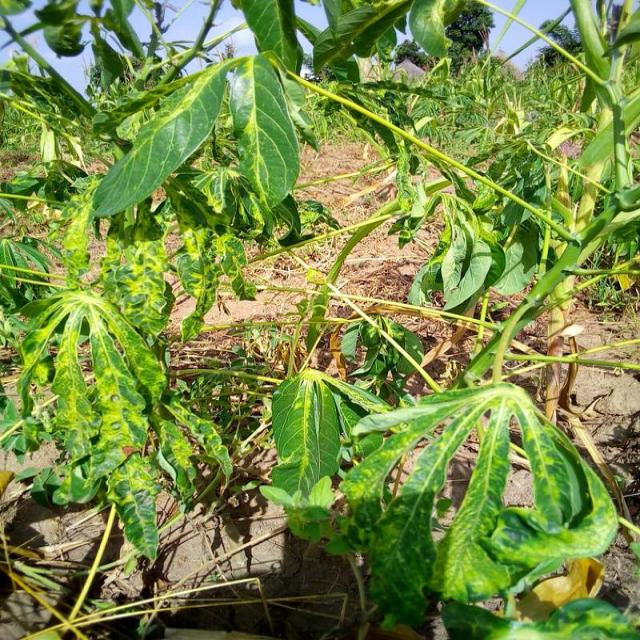cassava leaf: (338, 379, 620, 630), (91, 53, 234, 220), (229, 50, 302, 219), (271, 368, 343, 501)
